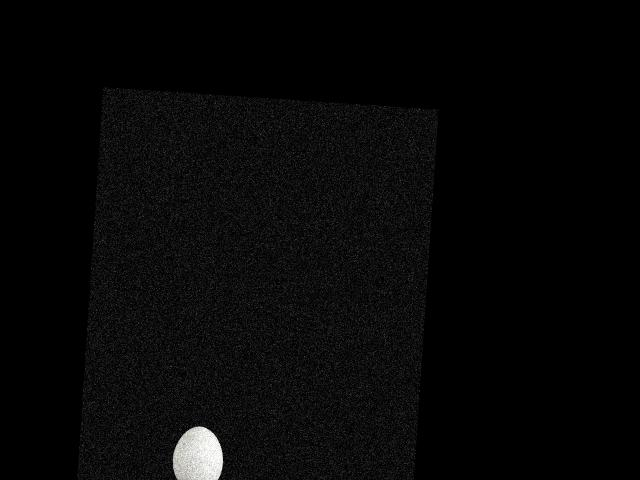egg: (171, 425, 225, 480)
